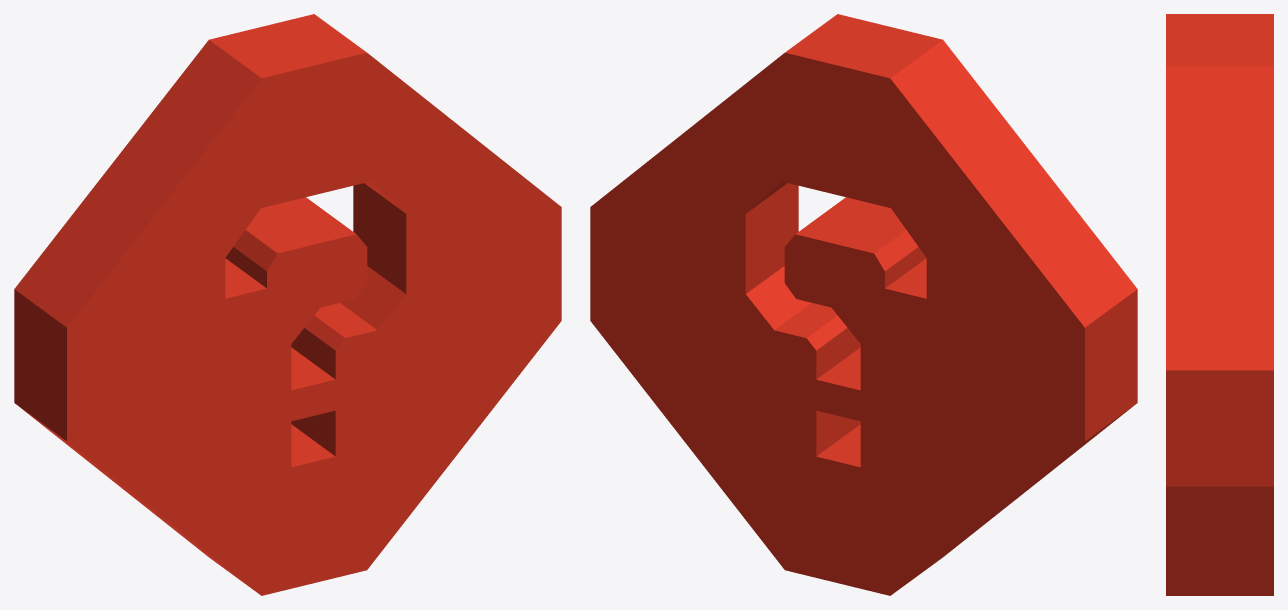
The model's file is Icon_Symbol_QuestionMark_03.fbx.
3 renders of one model, left to right at view 1: azimuth 30°, elevation 25°; view 2: azimuth 150°, elevation 25°; view 3: azimuth 270°, elevation 25°, orthographic. The views are drawn at different scales.
Visible parts, largest first — view 1: Icon_Symbol_QuestionMark_03; view 2: Icon_Symbol_QuestionMark_03; view 3: Icon_Symbol_QuestionMark_03.
Boxes of the visible parts, box(x1,y1,x2,y2) form: Icon_Symbol_QuestionMark_03: box(14, 14, 561, 595); Icon_Symbol_QuestionMark_03: box(590, 14, 1137, 595); Icon_Symbol_QuestionMark_03: box(1166, 14, 1273, 595).
Size of the model in its own units: 65.26 by 65.26 by 12.06.
